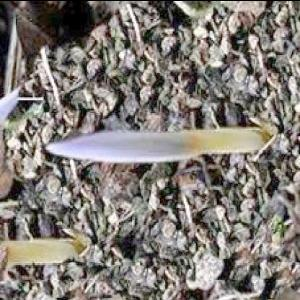Saffron: (47, 129, 203, 162)
